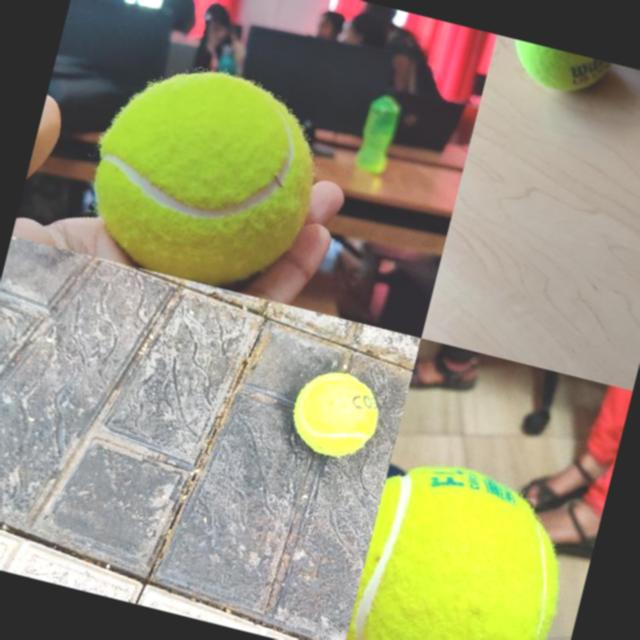tennis-ball: (73, 48, 334, 303), (341, 452, 581, 640), (284, 362, 387, 466), (504, 38, 614, 102)
